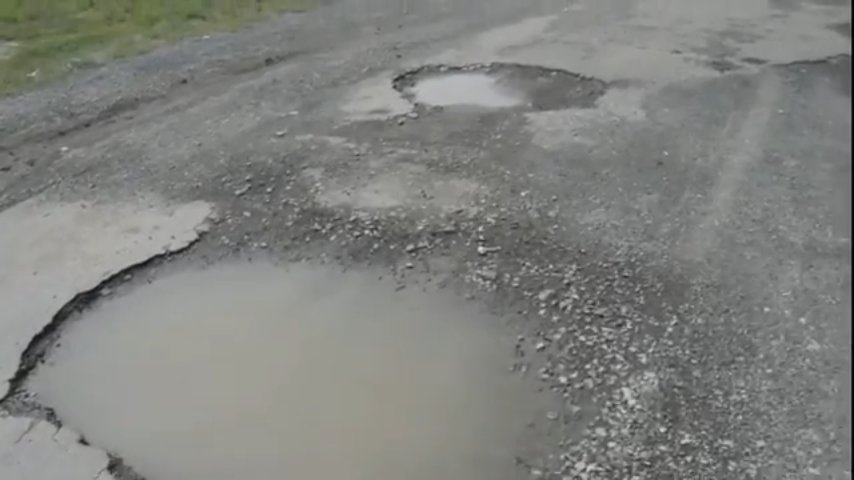pothole: (120, 280, 574, 480)
